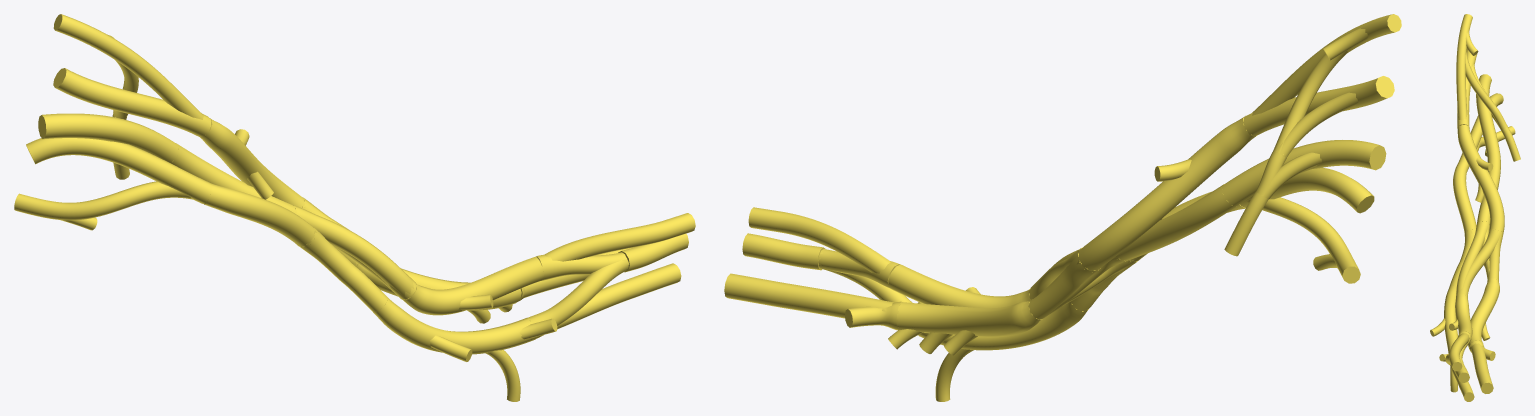
File: brachial-plexus-v3-nerves-split.glb
3 renders of one model, left to right at view 1: azimuth 30°, elevation 25°; view 2: azimuth 150°, elevation 25°; view 3: azimuth 270°, elevation 25°, orthographic. The views are drawn at different scales.
Visible parts, largest first — view 1: C8 root, C6 root, C7 root, Medial cord, Lateral cord, C5 root, T1 root, Musculocutaneous nerve, Inferior trunk, Ant div middle trunk, Superior trunk, Ulnar nerve (+10 smaller); view 2: Superior trunk, Posterior cord, Radial nerve, C7 root, Musculocutaneous nerve, Middle trunk, Lateral cord, C6 root, T1 root, C8 root, Medial cord, C5 root (+13 smaller); view 3: Superior trunk, C5 root, Posterior cord, Inferior trunk, C7 root, Ant div superior trunk, Ant div middle trunk, Middle trunk, Radial nerve, Medial cord, Lateral cord, Long thoracic (C5 part) (+18 smaller).
Part boxes in pixels (box(x1,y1,x2,y2)): C8 root: box(26, 138, 212, 203); C6 root: box(53, 68, 211, 136); C7 root: box(38, 113, 178, 162); Medial cord: box(373, 298, 536, 354); Lateral cord: box(402, 256, 544, 315); C5 root: box(53, 14, 203, 119); T1 root: box(14, 181, 192, 220); Musculocutaneous nerve: box(544, 213, 695, 261); Inferior trunk: box(204, 184, 314, 246); Ant div middle trunk: box(293, 205, 415, 299); Superior trunk: box(200, 118, 304, 207); Ulnar nerve: box(557, 263, 681, 329); Superior trunk: box(1078, 117, 1256, 271); Posterior cord: box(896, 301, 1041, 337); Radial nerve: box(724, 273, 893, 318); C7 root: box(1222, 140, 1386, 206); Musculocutaneous nerve: box(748, 207, 890, 273); Middle trunk: box(1116, 184, 1236, 261); Lateral cord: box(888, 264, 1031, 308); C6 root: box(1243, 76, 1394, 136); T1 root: box(1246, 197, 1360, 283); C8 root: box(1240, 167, 1374, 213); Medial cord: box(918, 301, 1088, 350); C5 root: box(1252, 14, 1401, 115); Superior trunk: box(1457, 125, 1504, 233); C5 root: box(1456, 14, 1472, 120); Posterior cord: box(1468, 278, 1499, 350); Inferior trunk: box(1453, 161, 1476, 232); C7 root: box(1476, 74, 1499, 149); Ant div superior trunk: box(1456, 228, 1502, 295); Ant div middle trunk: box(1456, 220, 1489, 293); Middle trunk: box(1477, 146, 1500, 224); Radial nerve: box(1471, 343, 1493, 393); Medial cord: box(1444, 285, 1457, 353); Lateral cord: box(1455, 294, 1472, 337); Long thoracic (C5 part): box(1465, 52, 1496, 111).
Size of the model in its own units: 0.1712 by 0.1257 by 0.0397.
